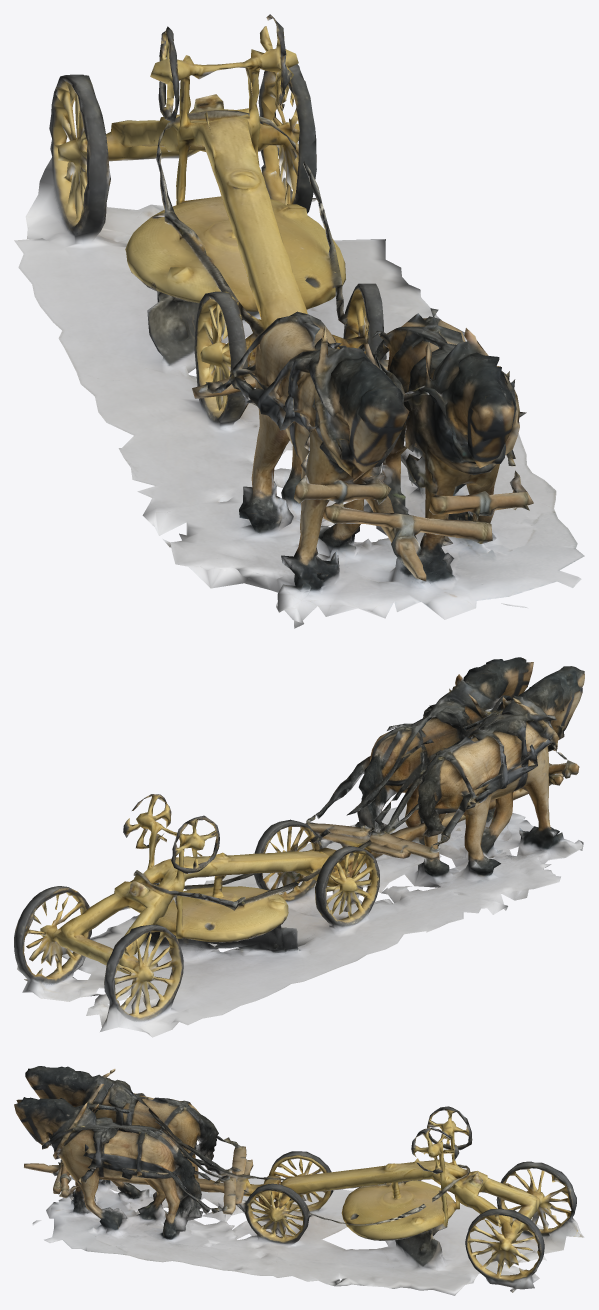
The model's file is mdl_caleche_07.fbx.
3 renders of one model, top to bottom at view 1: azimuth 30°, elevation 25°; view 2: azimuth 150°, elevation 25°; view 3: azimuth 270°, elevation 25°, orthographic. The views are drawn at different scales.
Parts seen in each view (by area): view 1: mdl_caleche_07; view 2: mdl_caleche_07; view 3: mdl_caleche_07.
Boxes of the visible parts, x1,y1,x2,y2 form: mdl_caleche_07: [14, 14, 584, 628]; mdl_caleche_07: [14, 657, 584, 1037]; mdl_caleche_07: [14, 1066, 584, 1295].
Size of the model in its own units: 14.24 by 7.17 by 27.42.
1 material, 1 textured.
